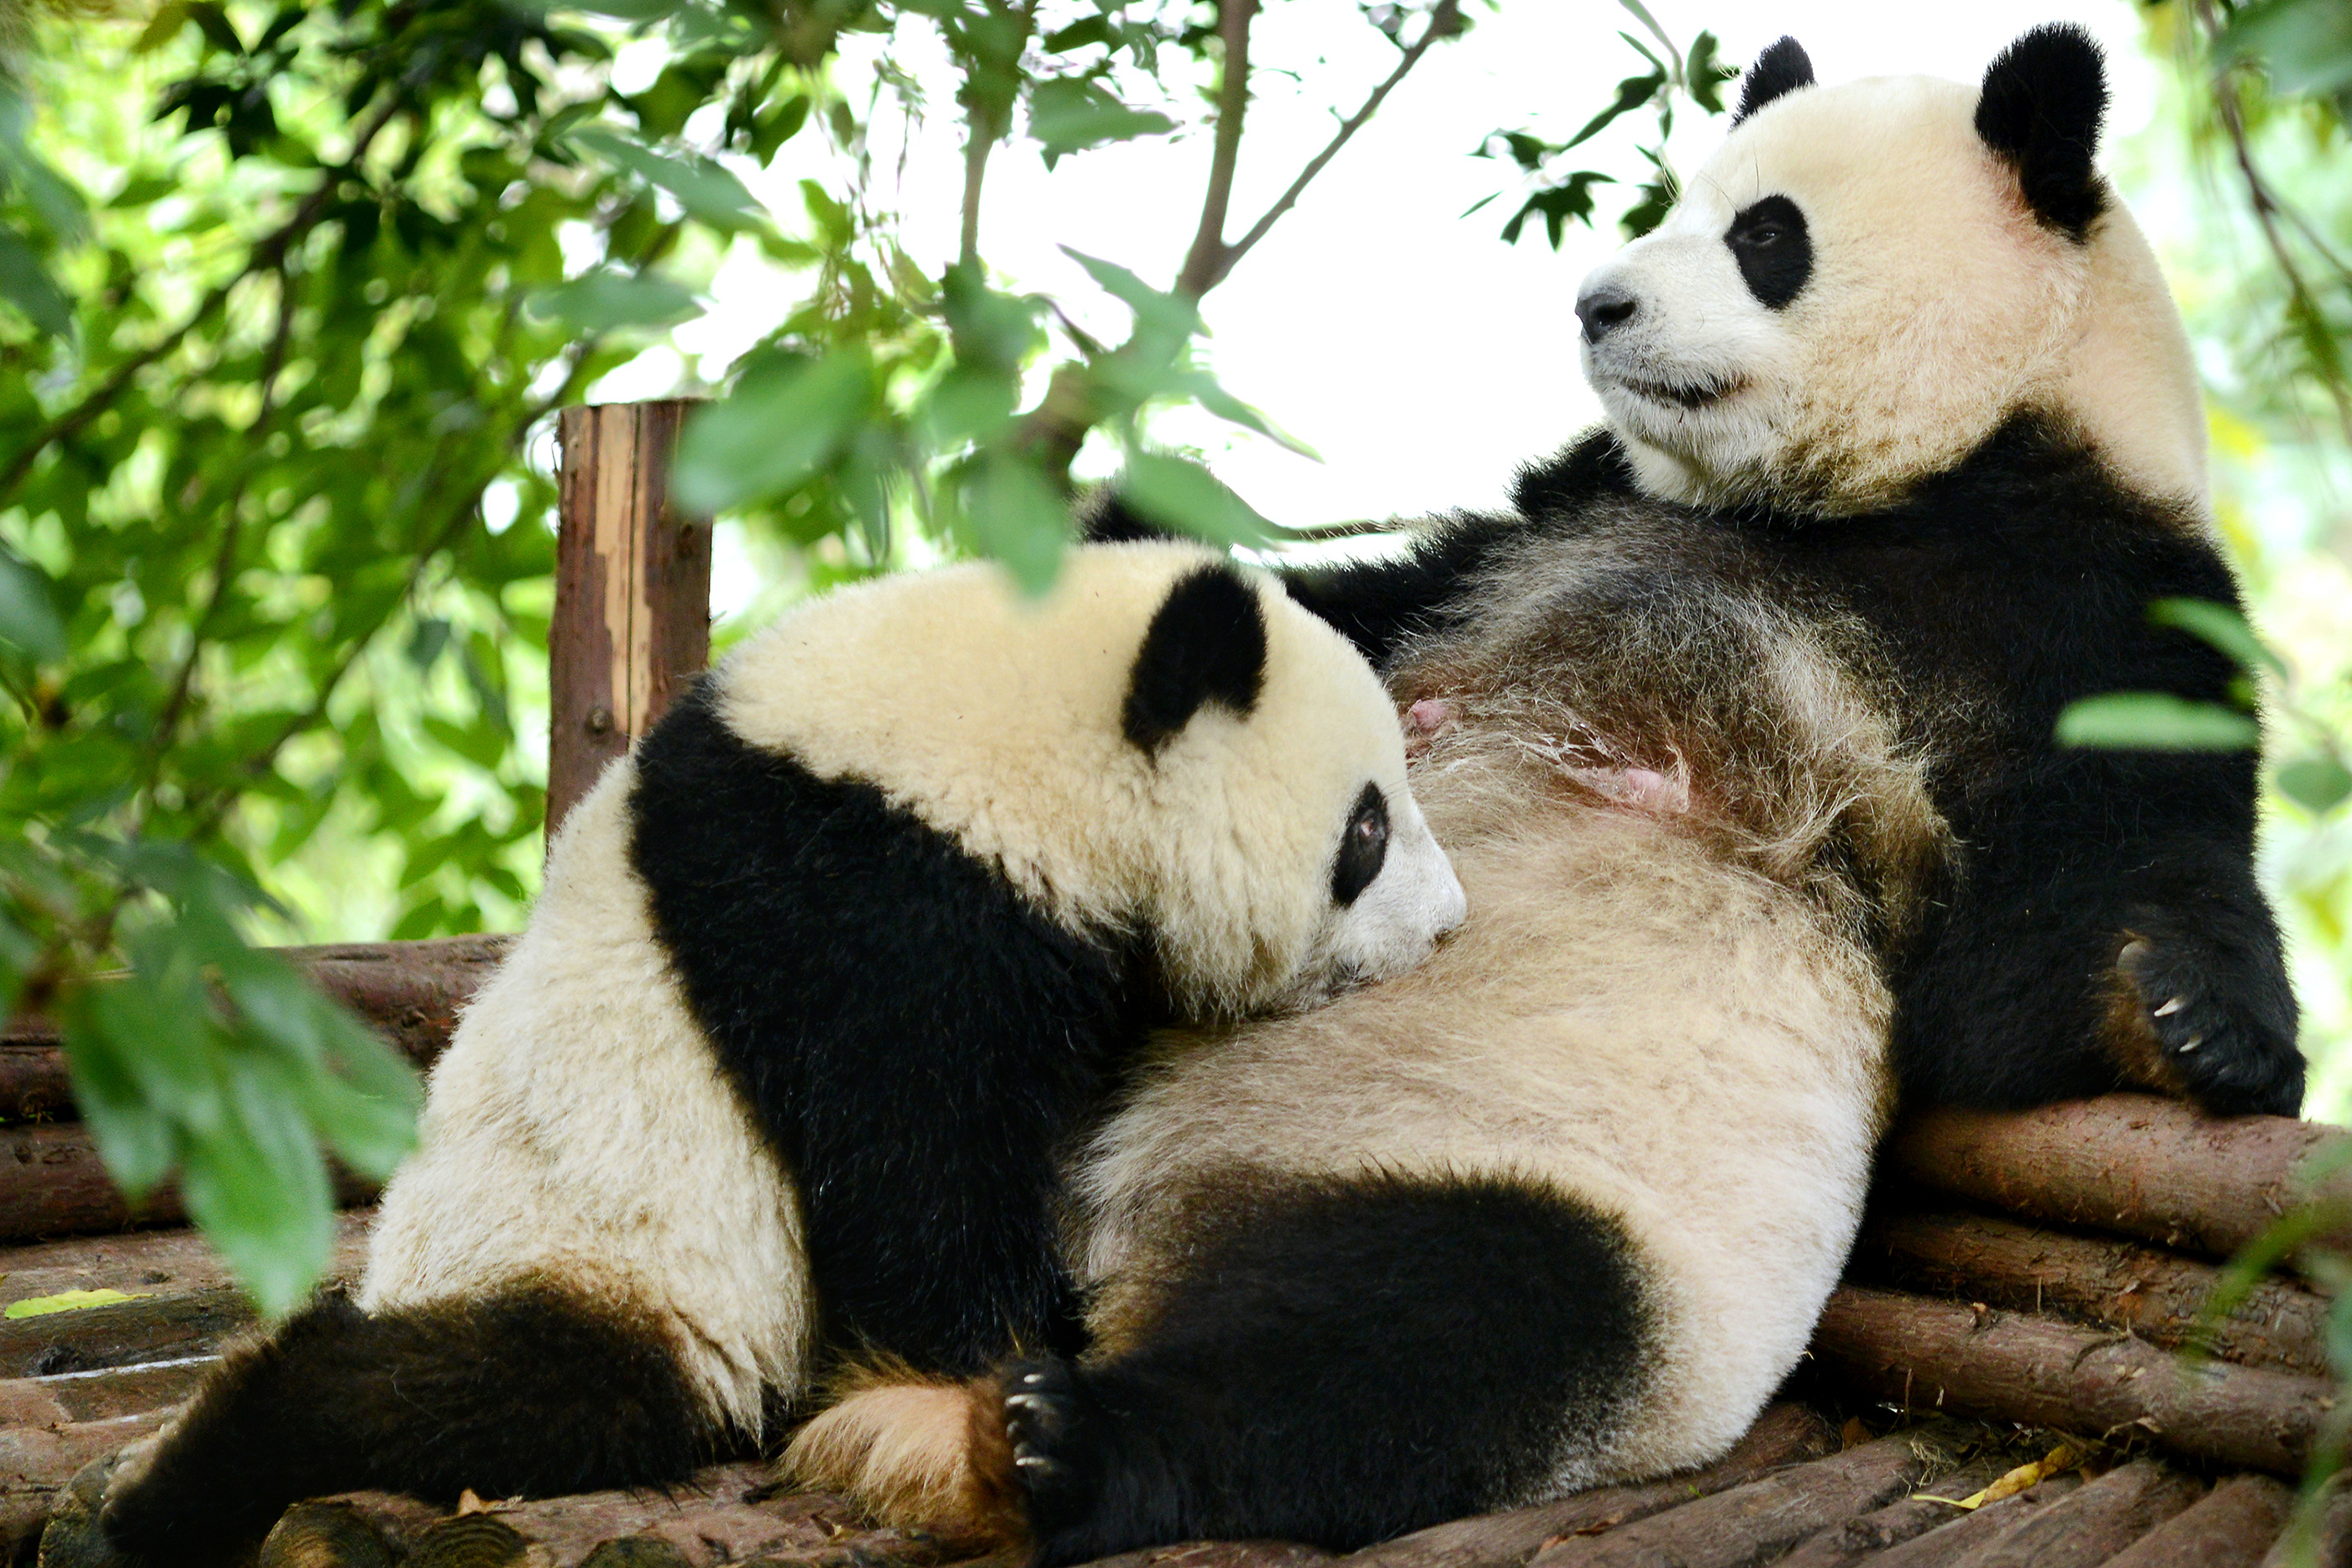panda: (1160, 44, 2317, 1542), (283, 502, 1403, 1507)
